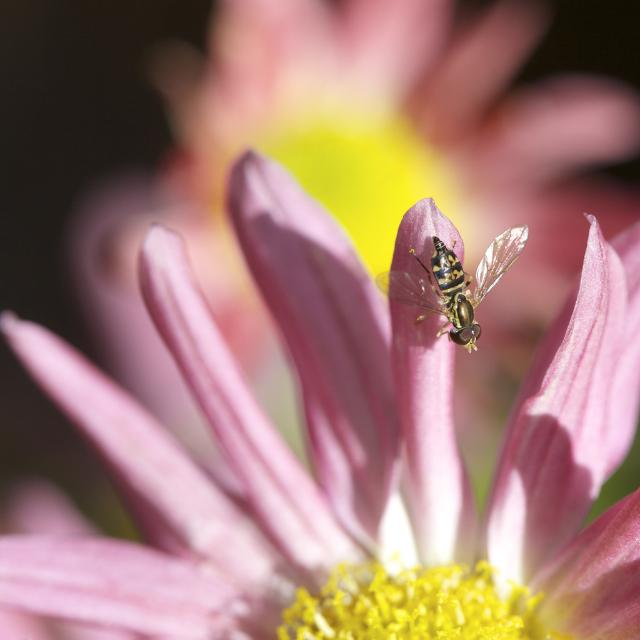Flower: (5, 118, 628, 640)
